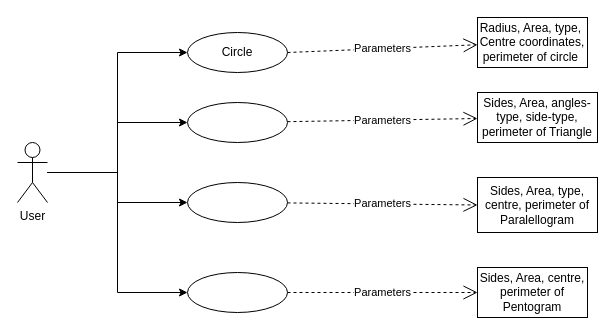
Image size: 615x335. Some labels were removed from this diagram. The centre of each missing label's shape, as x and y in pixels:
"Paralellogram" goes at (x=237, y=202).
"Pentogram" goes at (x=237, y=292).
"Triangle" goes at (x=237, y=122).
